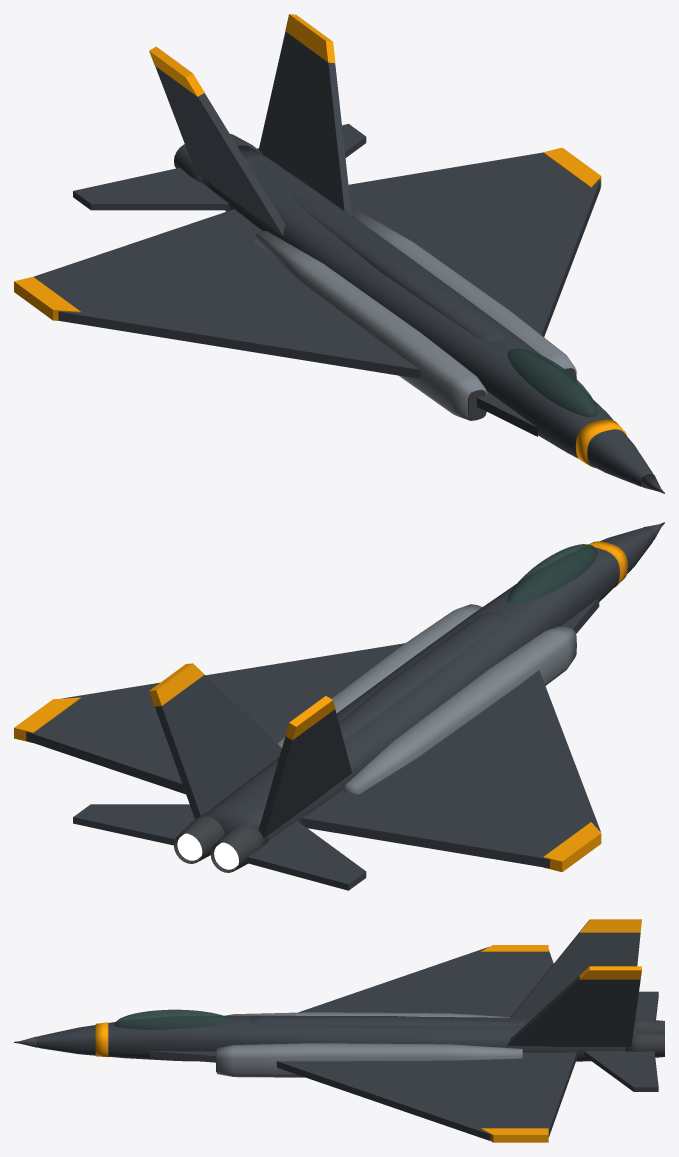
The model's file is Jet_MakoSR9.fbx.
The picture shows the model from 3 angles, top to bottom: view 1: azimuth 30°, elevation 25°; view 2: azimuth 150°, elevation 25°; view 3: azimuth 270°, elevation 25°; orthographic projection. The views are drawn at different scales.
Parts seen in each view (by area): view 1: Body.010, Intakes.003, Accents.005, Canopy.013, Trim.011; view 2: Body.010, Intakes.003, Accents.005, Canopy.013, Trim.011, Glow.011; view 3: Body.010, Intakes.003, Accents.005, Canopy.013, Trim.011.
Boxes of the visible parts, x1,y1,x2,y2 form: Body.010: [33, 31, 652, 486]; Intakes.003: [254, 209, 576, 420]; Accents.005: [14, 14, 626, 467]; Canopy.013: [507, 348, 597, 417]; Trim.011: [174, 134, 664, 493]; Body.010: [26, 527, 654, 890]; Intakes.003: [277, 604, 576, 794]; Accents.005: [14, 541, 627, 872]; Canopy.013: [507, 544, 597, 603]; Trim.011: [174, 522, 664, 872]; Glow.011: [177, 833, 238, 869]; Body.010: [37, 932, 658, 1140]; Intakes.003: [217, 1012, 522, 1077]; Accents.005: [95, 919, 641, 1142]; Canopy.013: [114, 1009, 231, 1029]; Trim.011: [14, 1019, 664, 1072].
Size of the model in its own units: 21.5 by 6.15 by 31.1.
